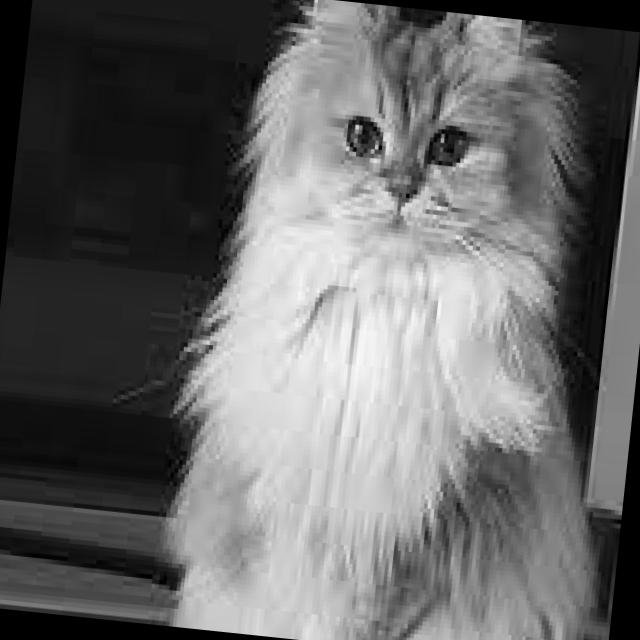british: (217, 0, 582, 303)
